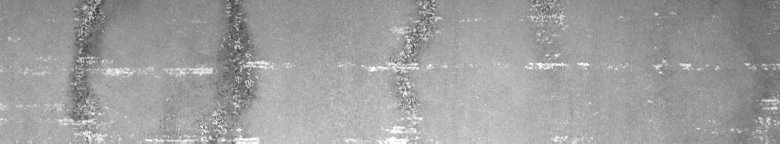hc: (8, 4, 272, 136)
